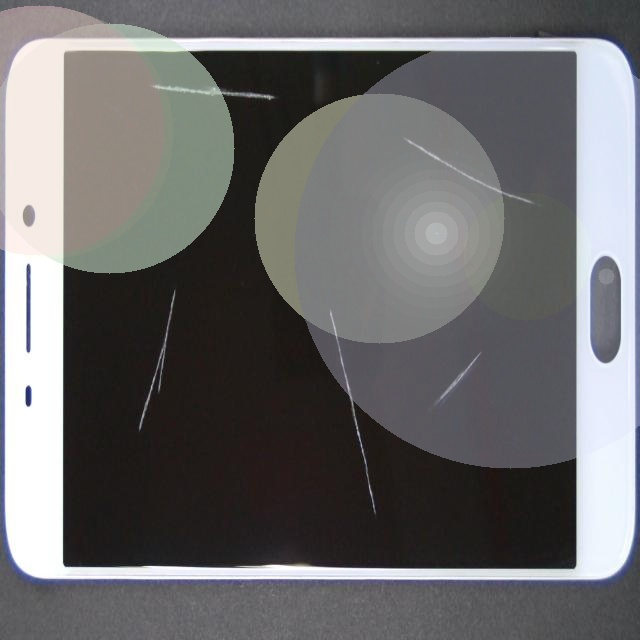scratch: (155, 72, 498, 505), (99, 56, 225, 501), (204, 51, 358, 119)
